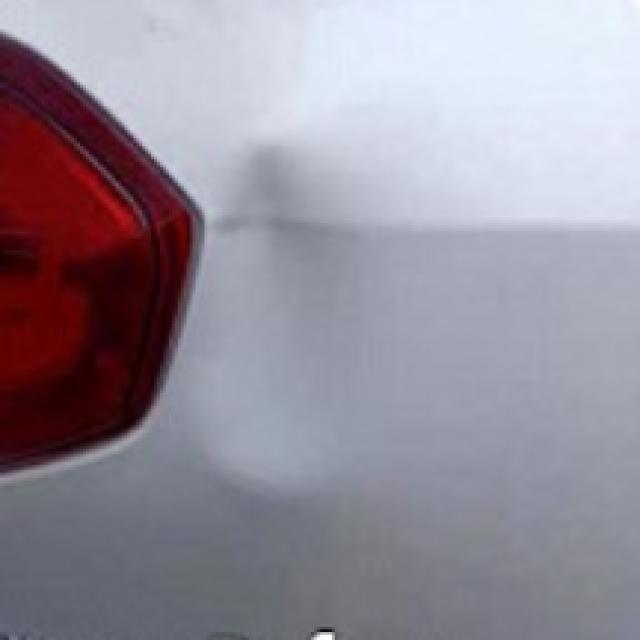dents: (194, 114, 392, 516)
